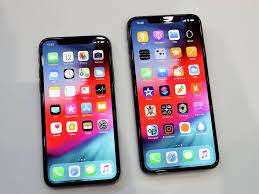samsung: (124, 11, 220, 176), (34, 34, 121, 194)
